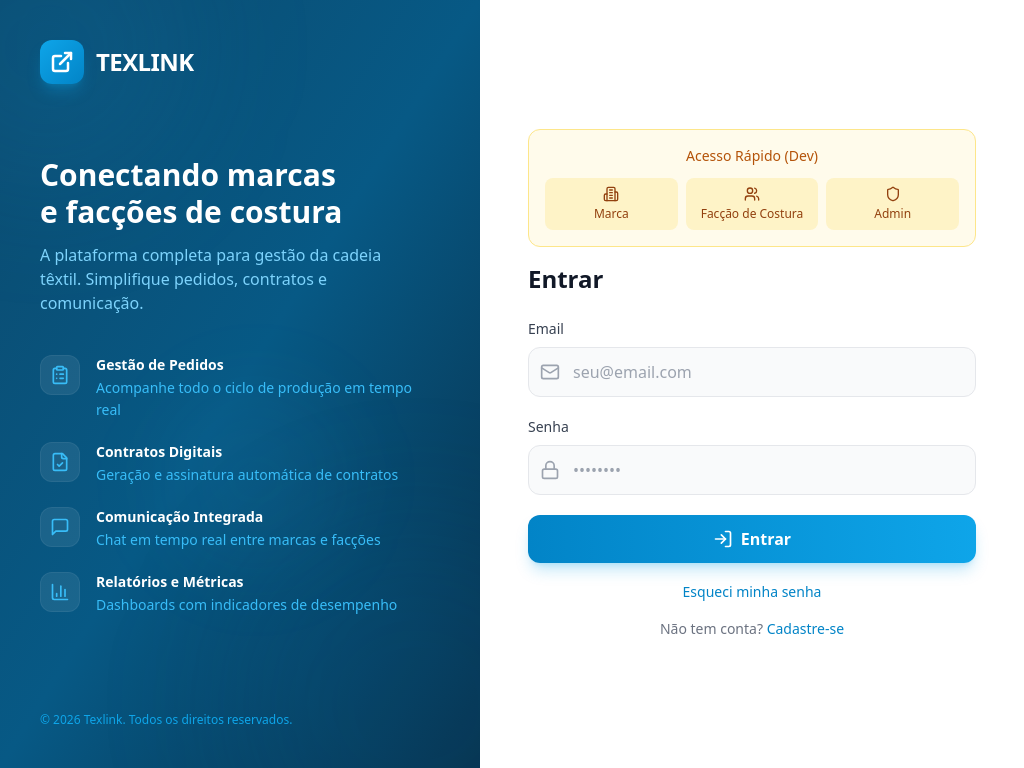
Test case: LoginPage › should disable button while loading
Type "test@test.com" into the field with placeholder "seu@email.com". click: {"x": 752, "y": 372}
box: 528,347 -> 976,397
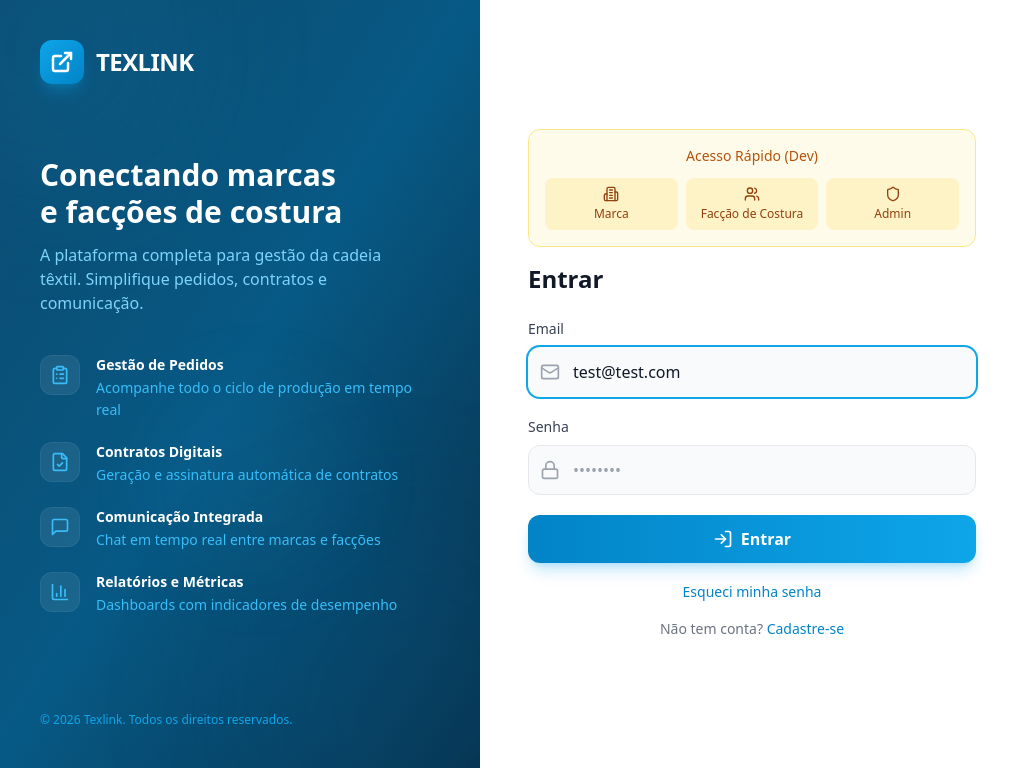
Type "pass" into the password field with placeholder "••••••••". click: {"x": 752, "y": 470}
box: 528,445 -> 976,495
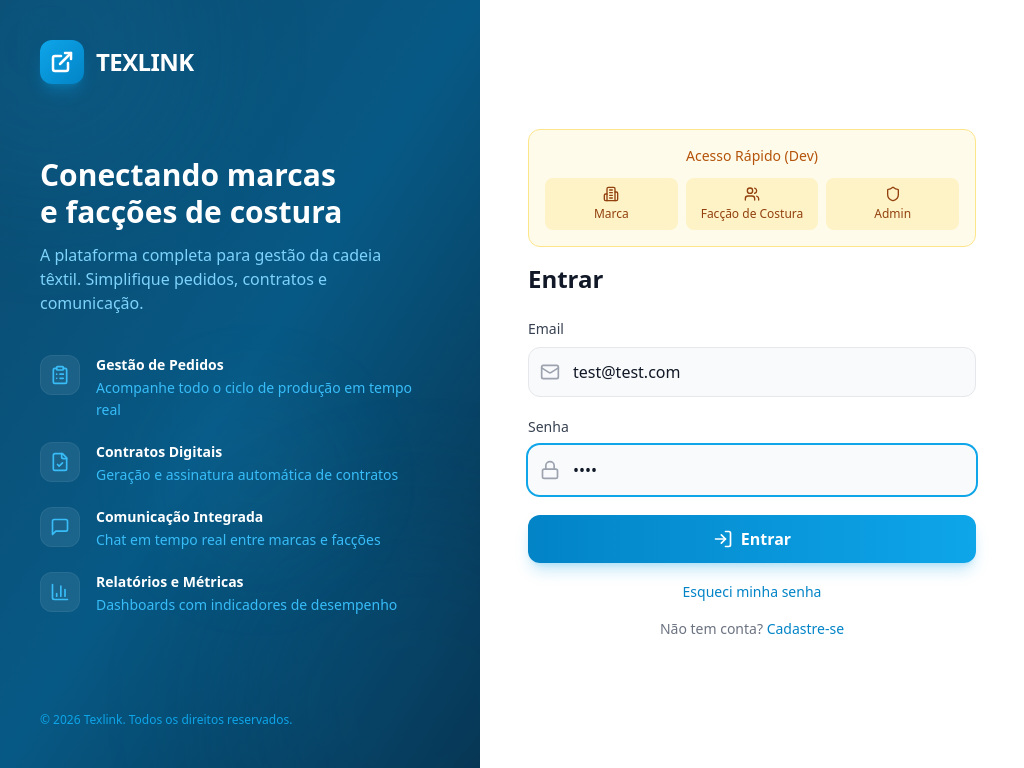
Click the button "Entrar". click: {"x": 752, "y": 539}
box: 528,515 -> 976,563
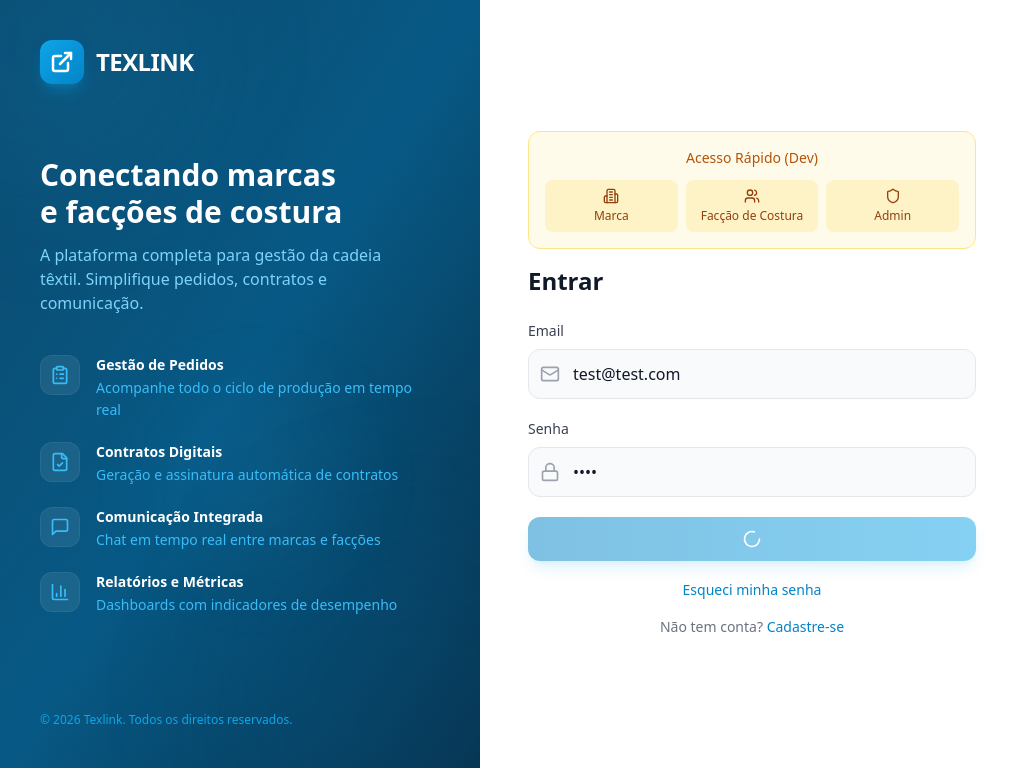
Expected: the 4th button is disabled, 528,517 -> 976,561
